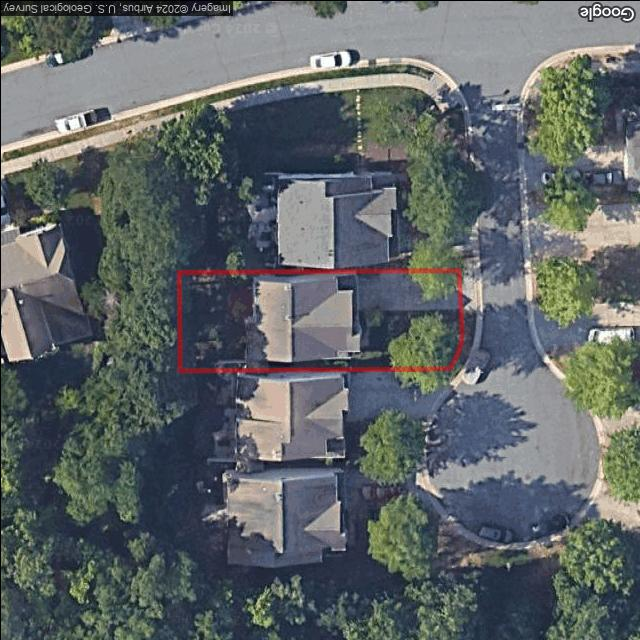Driveway: (355, 270, 459, 310)
Extra-Driveway: (457, 269, 476, 308)
Extra-Lawn: (447, 308, 476, 369)
House: (246, 272, 360, 361)
Lawn: (179, 270, 462, 370)
Sidewalk: (357, 310, 370, 346)
